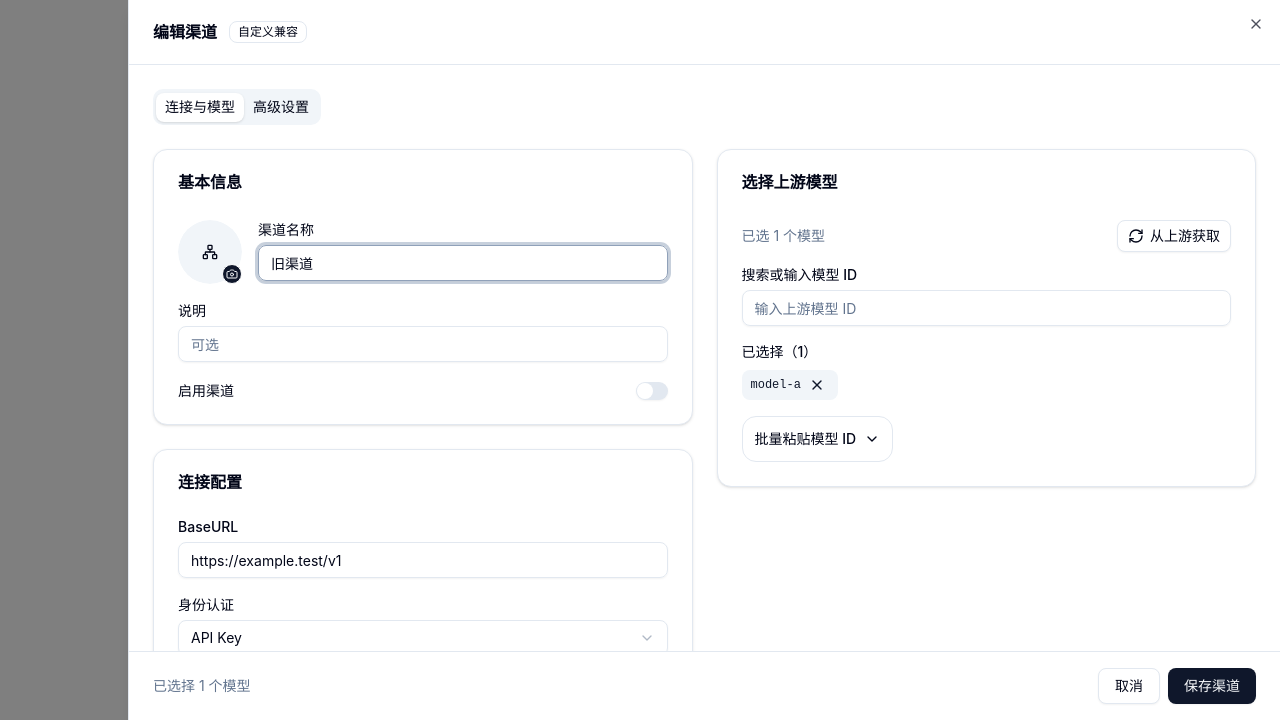
Test: shows bound model references on an inventory removal conflict
Click the button named "移除 model-a" at (817, 385), box [805,373,829,397]
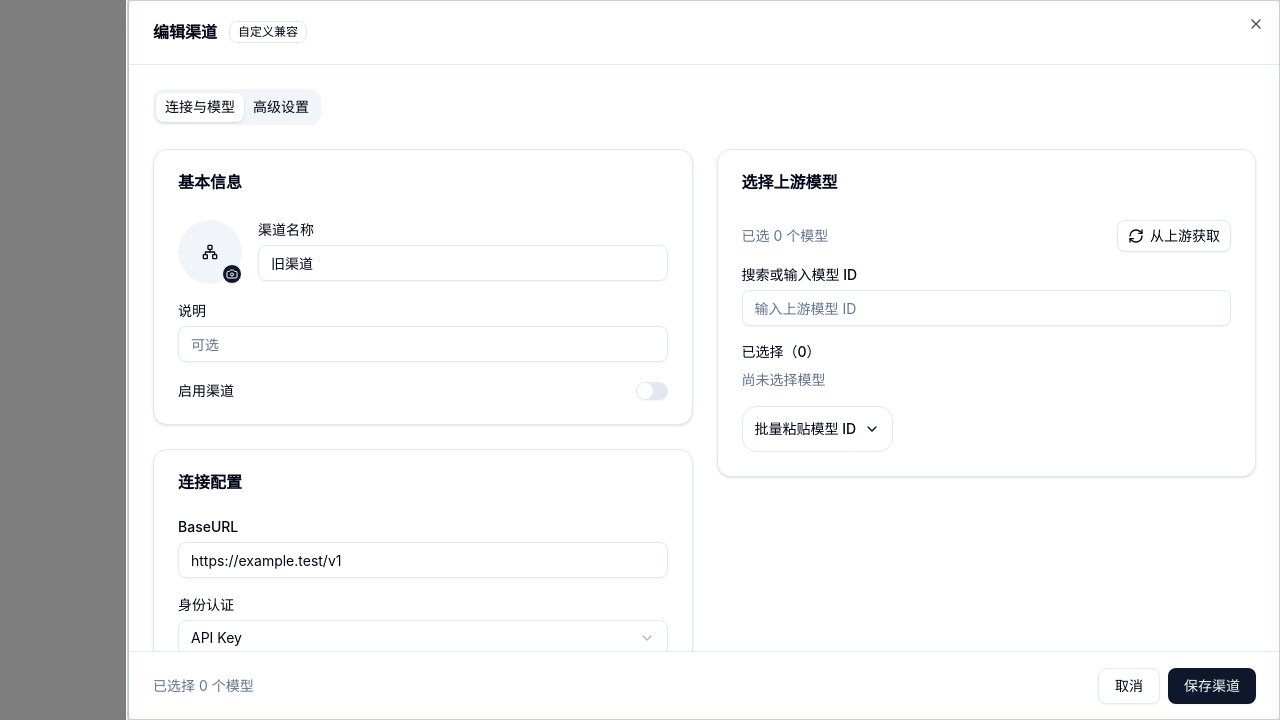
Click the button "保存渠道" at (1212, 686), box [1168,668,1256,704]
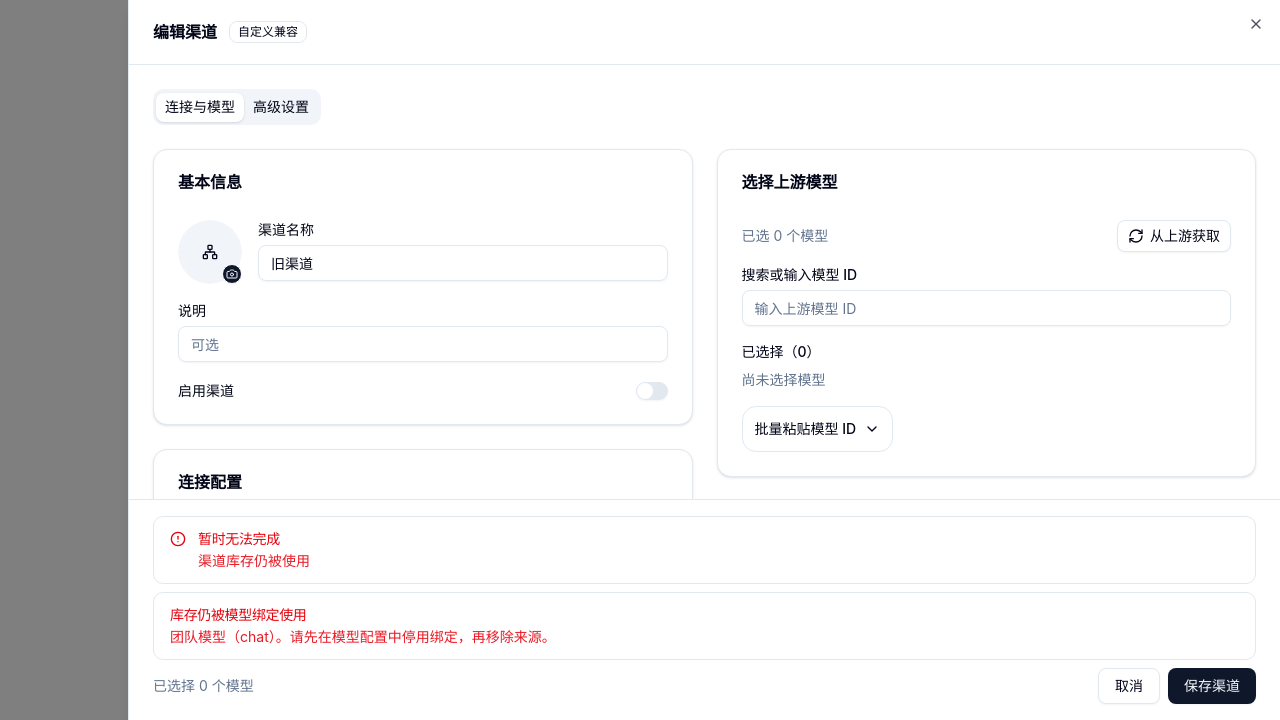
Result: the text "团队模型（chat）。请先在模型配置中停用绑定，再移除来源。" is shown at [170,628,556,645]
